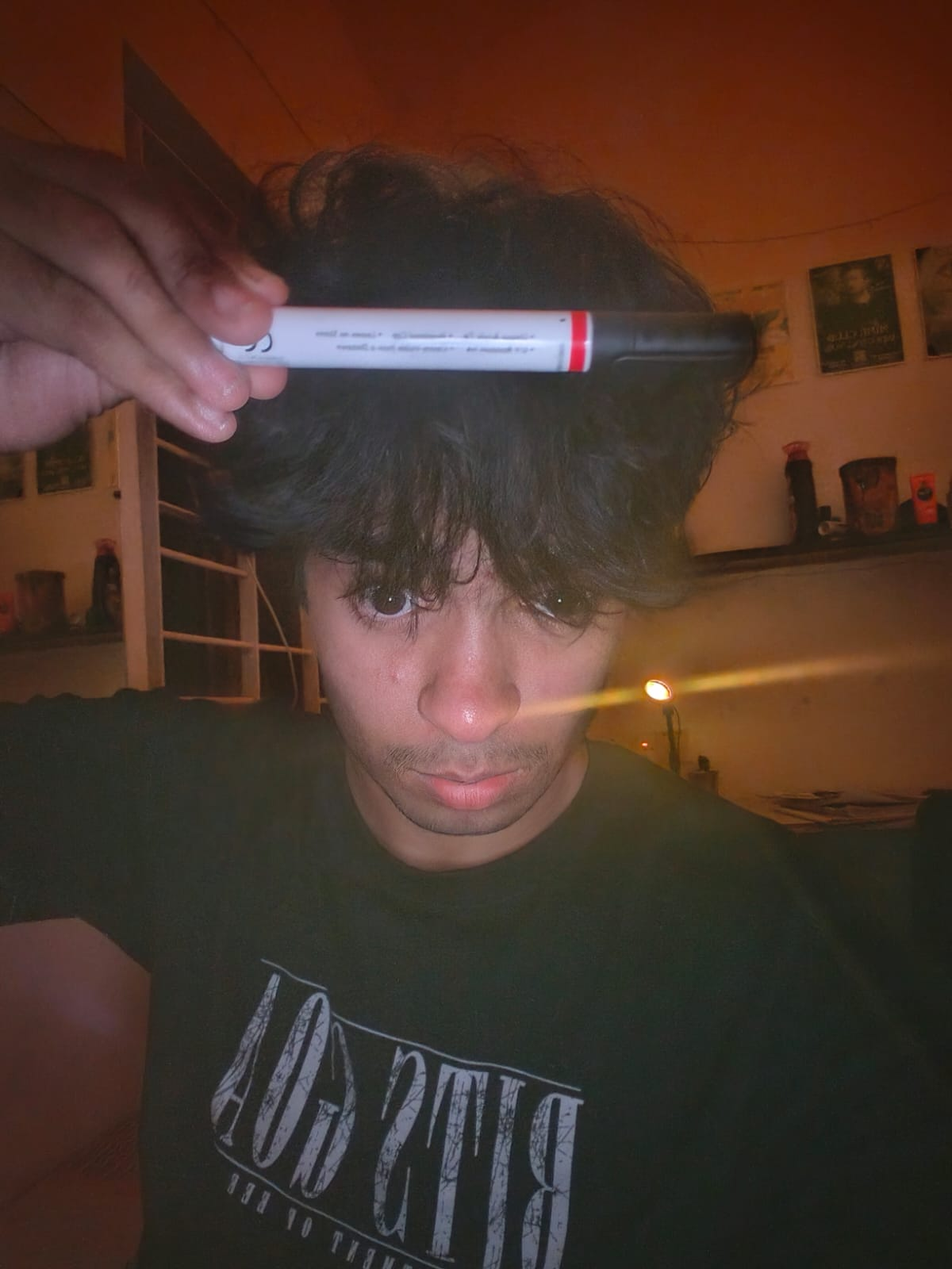case: (184, 287, 794, 380)
